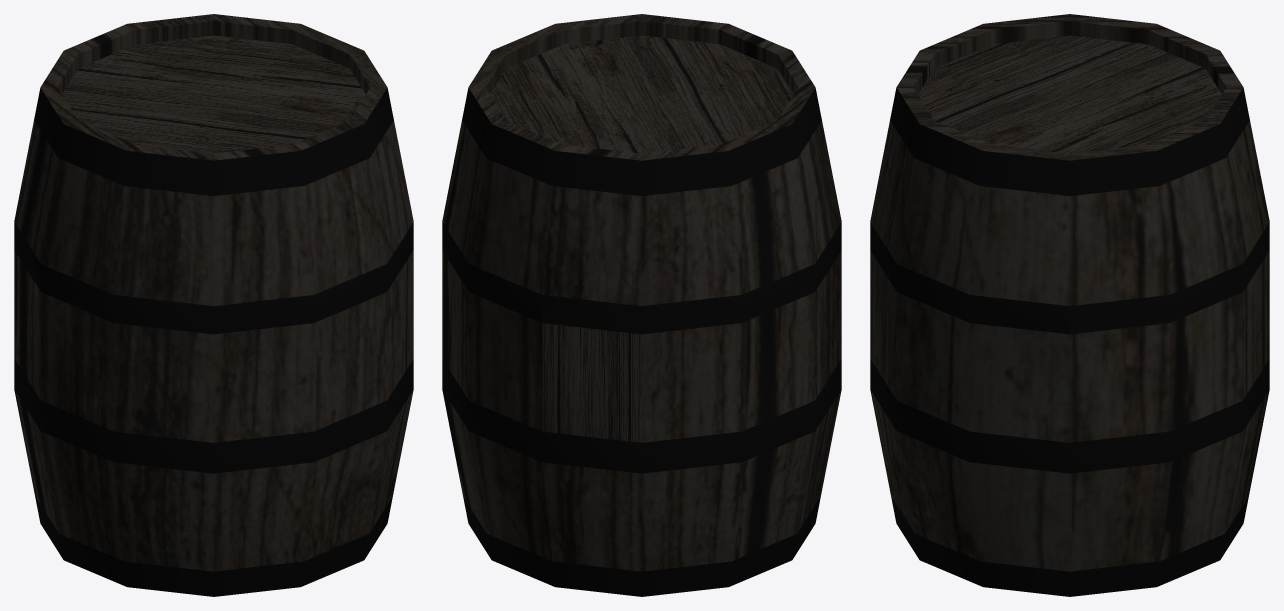
Rendered from Bochka.fbx.
The picture shows the model from 3 angles, left to right: view 1: azimuth 30°, elevation 25°; view 2: azimuth 150°, elevation 25°; view 3: azimuth 270°, elevation 25°; orthographic projection.
Visible parts, largest first — view 1: Cylinder; view 2: Cylinder; view 3: Cylinder.
Part boxes in pixels (bbox=[...]): Cylinder: bbox=[14, 14, 413, 596]; Cylinder: bbox=[442, 14, 841, 596]; Cylinder: bbox=[870, 14, 1269, 596].
Size of the model in its own units: 436 by 525 by 436.
2 materials, 1 textured.
